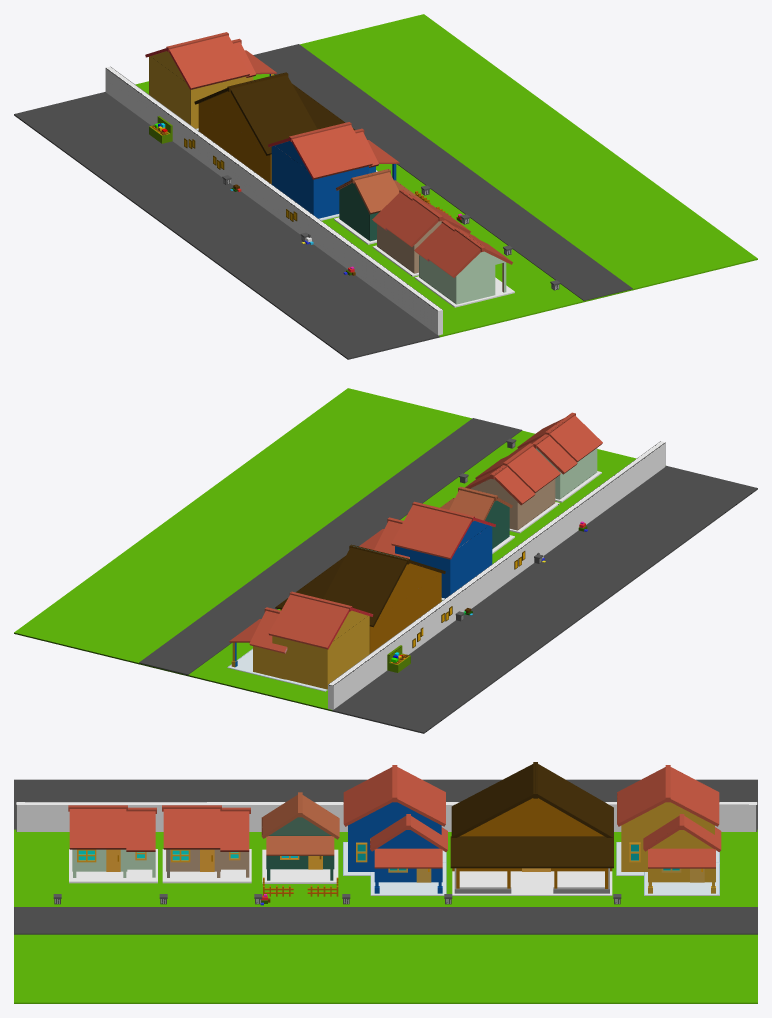
File: jalan.gltf
3 renders of one model, top to bottom at view 1: azimuth 30°, elevation 25°; view 2: azimuth 150°, elevation 25°; view 3: azimuth 270°, elevation 25°, orthographic. The views are drawn at different scales.
Parts seen in each view (by area): view 1: platform (×4), rootfile (×9), wall (×7); view 2: platform (×4), rootfile (×10), wall (×7); view 3: platform (×10), rootfile (×23), wall (×11).
Part boxes in pixels (x1,y1,x2,y2): platform (×4): [14, 14, 757, 359]; rootfile (×9): [169, 35, 480, 277]; wall (×7): [149, 56, 495, 304]; platform (×4): [14, 388, 757, 733]; rootfile (×10): [249, 415, 602, 653]; wall (×7): [253, 448, 597, 689]; platform (×10): [14, 779, 757, 1003]; rootfile (×23): [69, 763, 721, 868]; wall (×11): [72, 766, 715, 882].
Size of the model in its own units: 40.75 by 6.95 by 57.5.
Materials: 12 (12 with a texture image).
